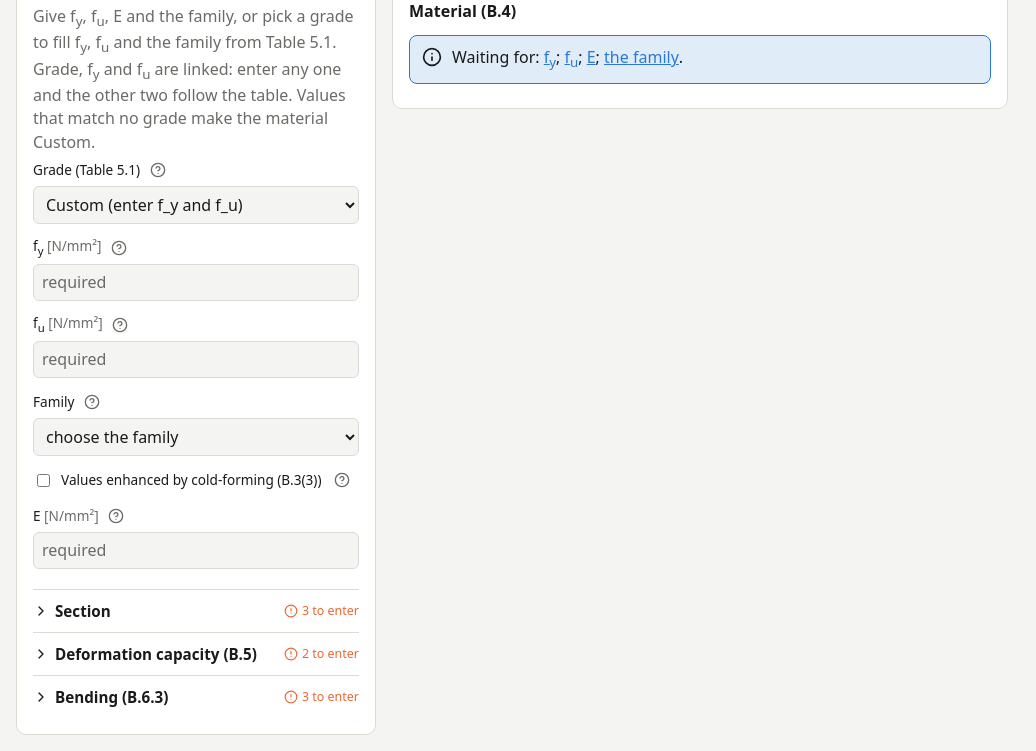
the Section group › lists section type, fabrication, the geometry button, the dimensions, then A, γM0 and holes, in that order
The image size is (1036, 751).
(page scrolled)
Step 1. Click the button "Section 3 to enter" → (83, 611), box left=33, top=590, right=359, bottom=632
(page scrolled)
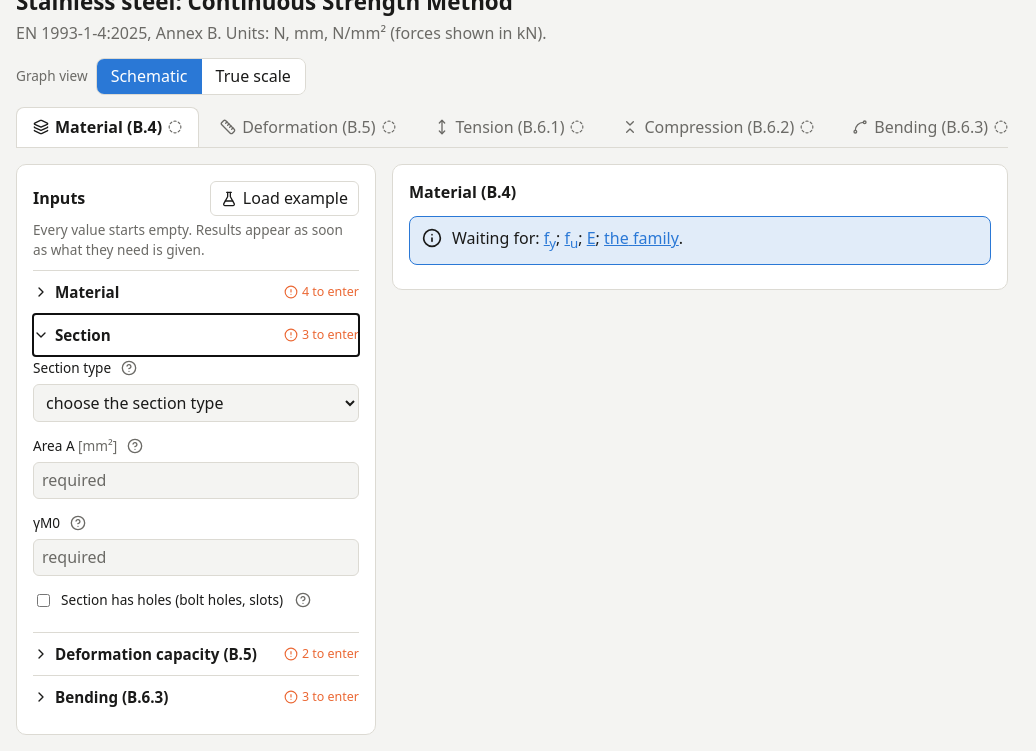
Step 2. Select "I-section" in the dropdown labelled "Section type" → (196, 403), box left=33, top=384, right=359, bottom=422
(page scrolled)
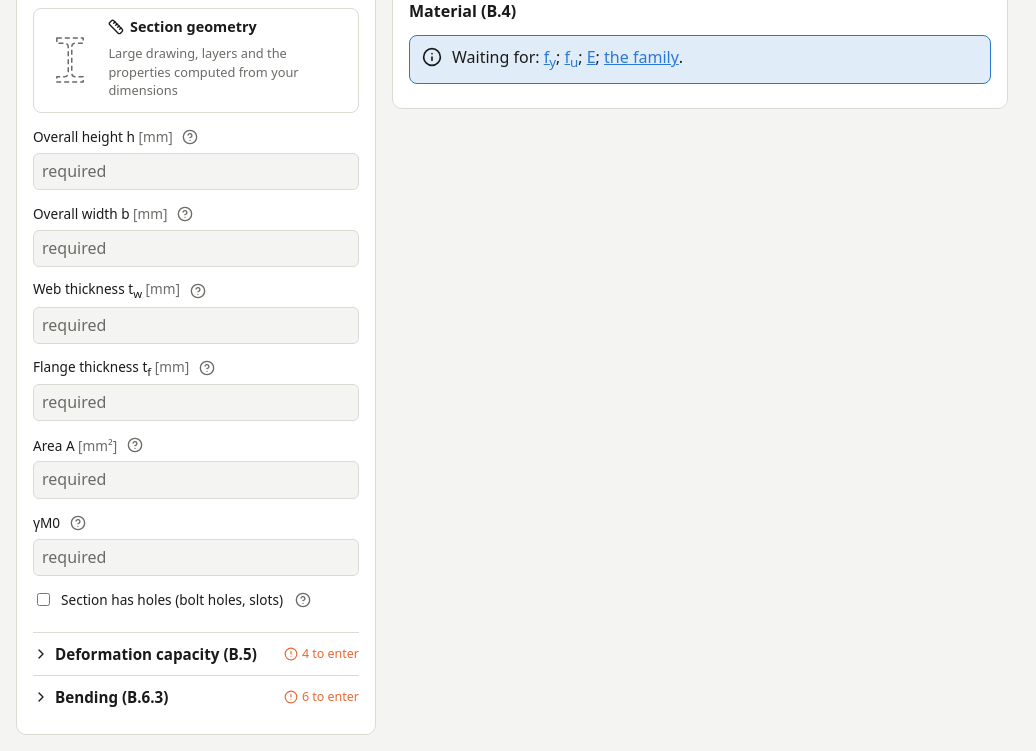
Expected: the button with class "geometry-button" is shown, left=33, top=8, right=359, bottom=113
Expected: the element showing "Overall height h [mm]" is shown, left=33, top=125, right=359, bottom=190
Expected: the element showing "Flange thickness tf [mm]" is shown, left=33, top=356, right=359, bottom=421
